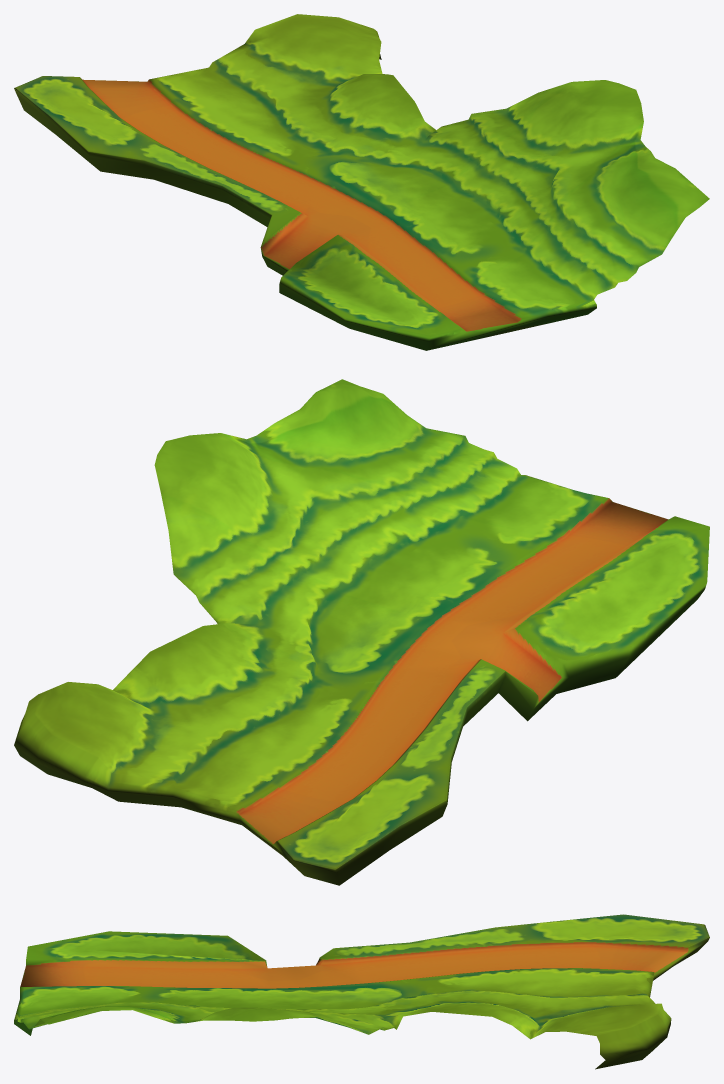
File: SM_Platform_02.fbx
3 renders of one model, top to bottom at view 1: azimuth 30°, elevation 25°; view 2: azimuth 150°, elevation 25°; view 3: azimuth 270°, elevation 25°, orthographic. The views are drawn at different scales.
Visible parts, largest first — view 1: SM_Platform_05; view 2: SM_Platform_05; view 3: SM_Platform_05.
Part boxes in pixels (<box>): SM_Platform_05: <box>14,14,709,350</box>; SM_Platform_05: <box>14,379,709,885</box>; SM_Platform_05: <box>14,914,709,1069</box>.
Size of the model in its own units: 3280 by 982 by 5422.
